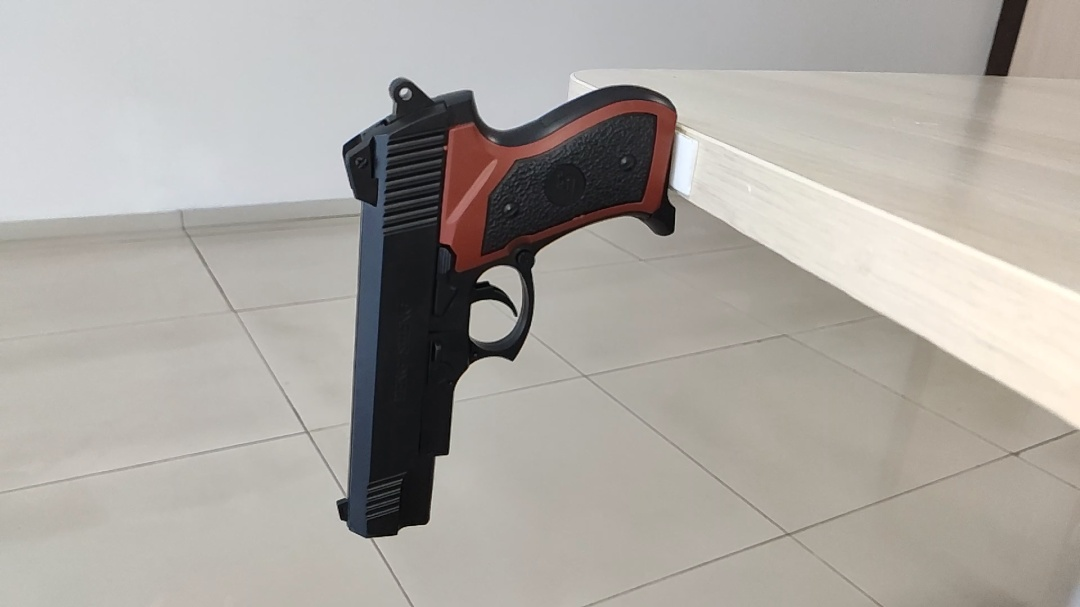gun: (328, 69, 679, 542)
